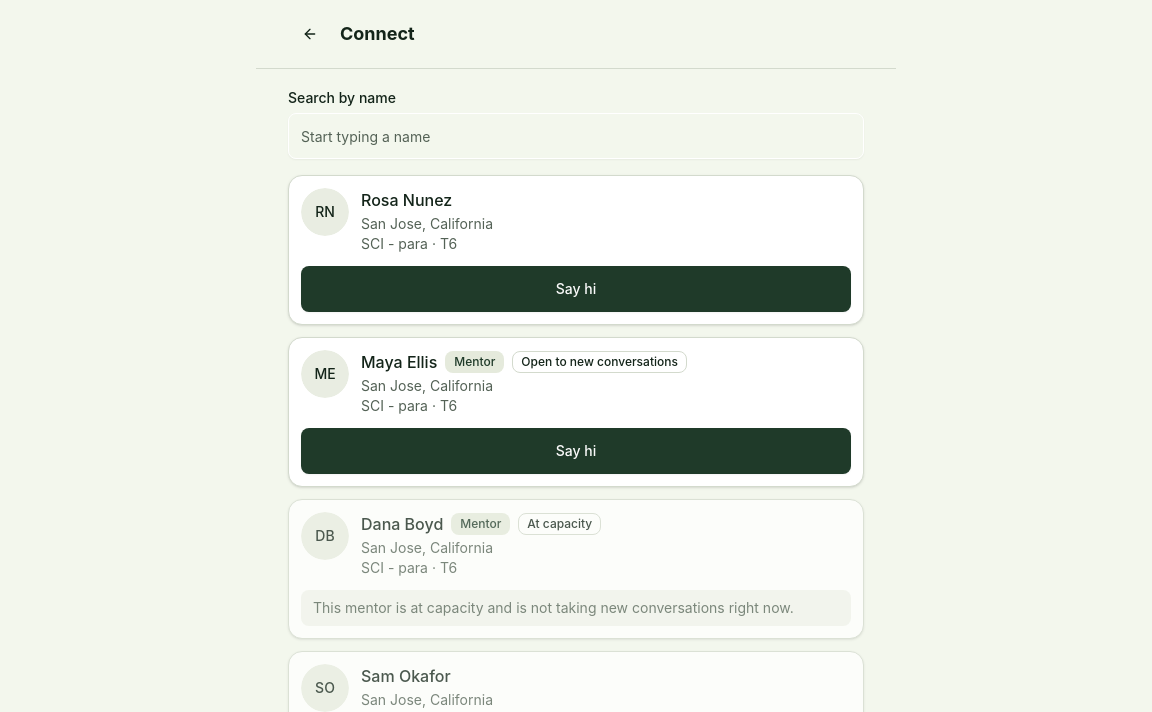
Test: ConnectPage › confirms a wave to a peer rather than opening a thread
Click the button with aria-label "Say hi to Rosa Nunez": coordinates (576, 289) [301,266,851,312]
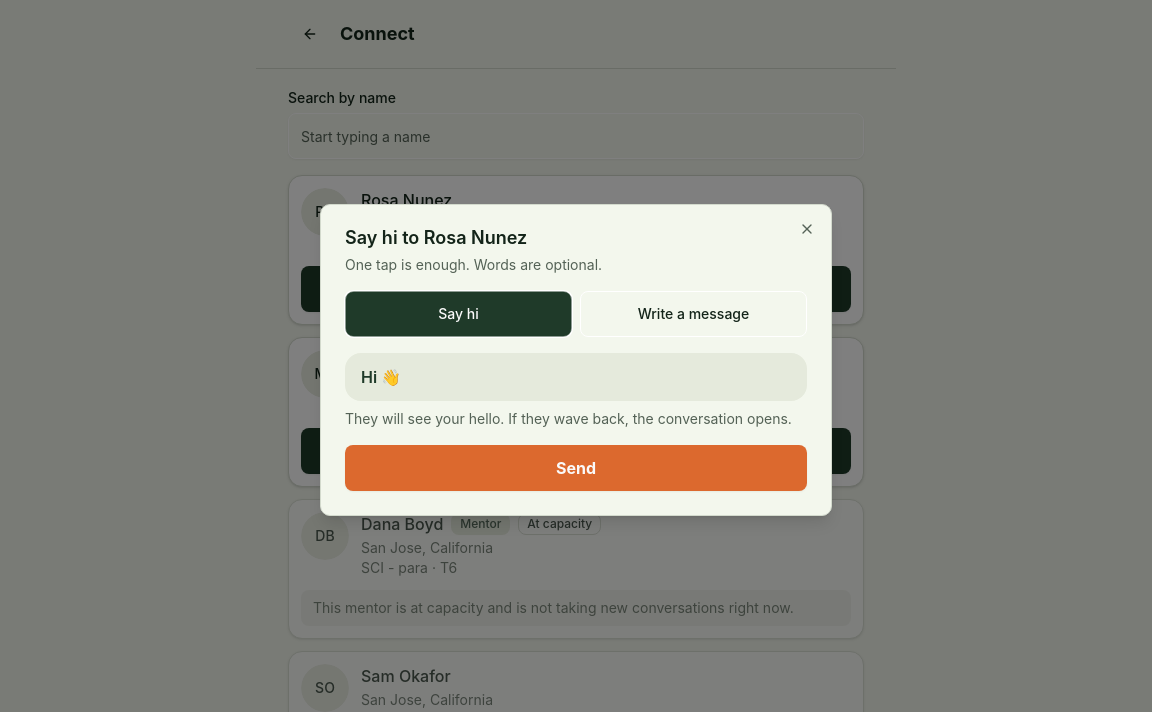
Result: the text "If they wave back, the conversation opens" is shown at [345,410,792,427]
Click the button "Send": coordinates (576, 468) [345,445,807,491]
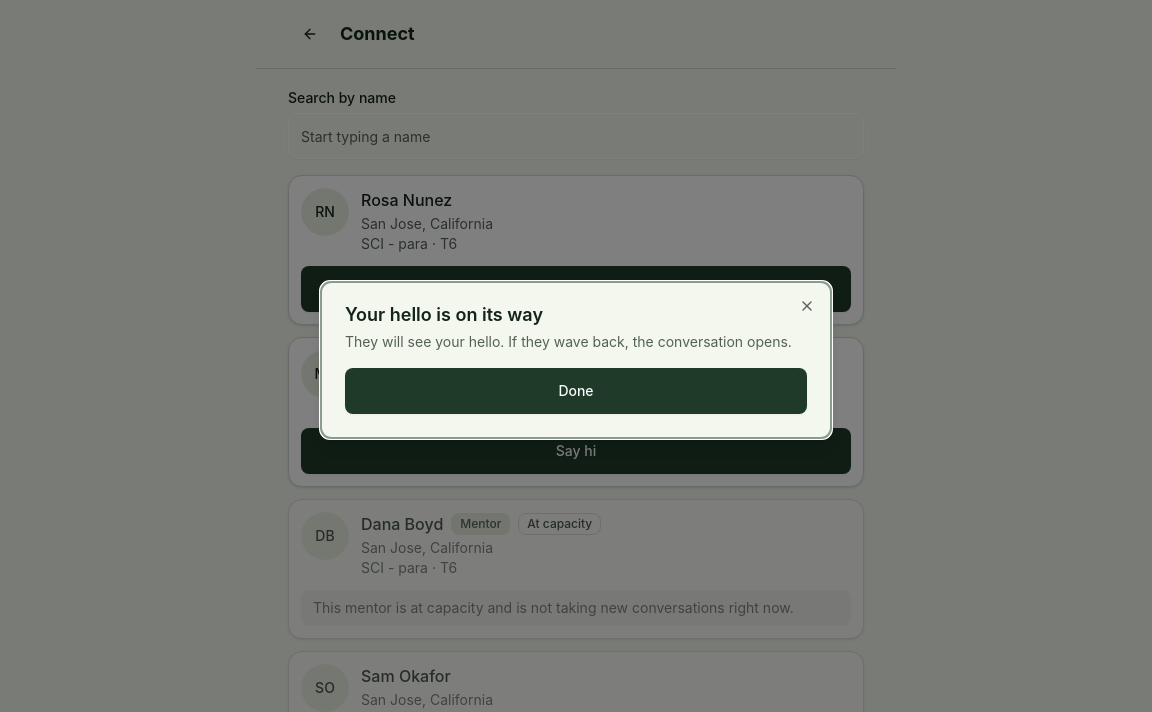
Result: the heading "Your hello is on its way" is shown at [345,304,543,325]
